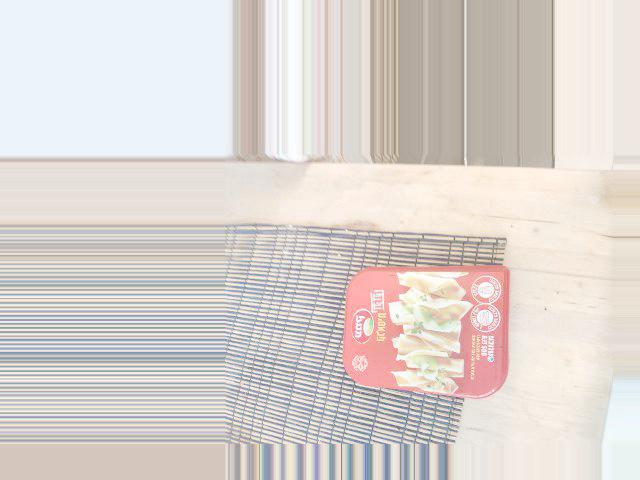cheese: (274, 264, 406, 438)
